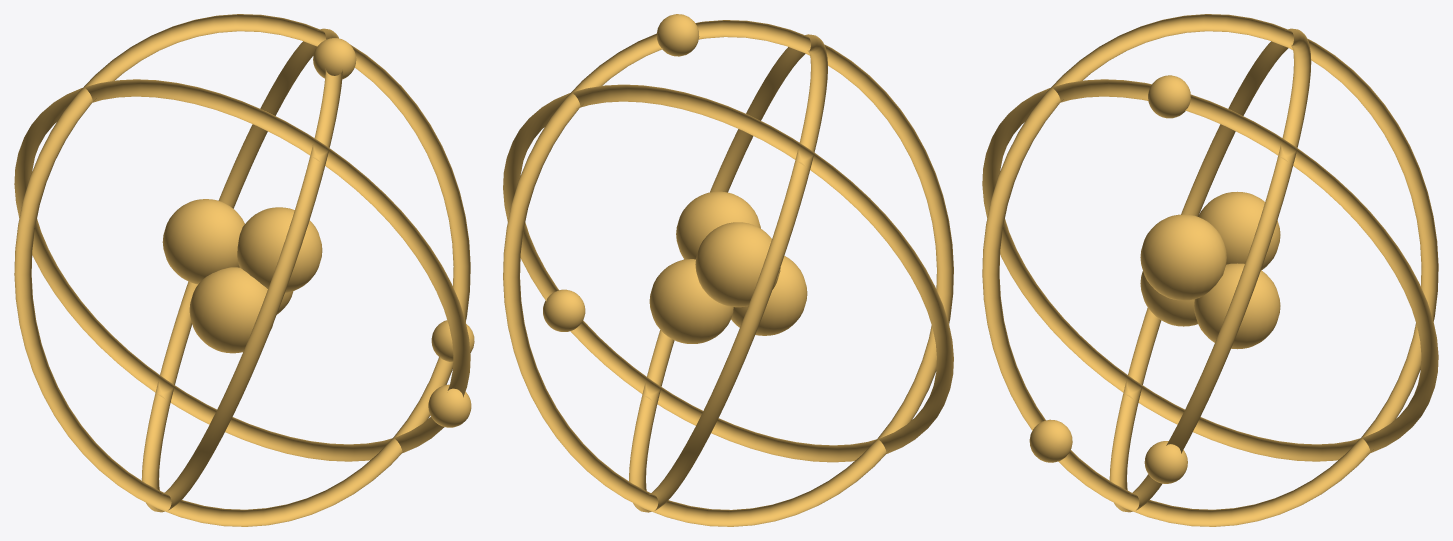
Rendered from physics.glb.
3 views of the same model, side by side, from view 1: azimuth 30°, elevation 25°; view 2: azimuth 150°, elevation 25°; view 3: azimuth 270°, elevation 25° (orthographic).
Visible parts, largest first — view 1: physics; view 2: physics; view 3: physics.
Part boxes in pixels (<box>): physics: <box>14,14,474,526</box>; physics: <box>503,14,953,526</box>; physics: <box>982,14,1438,526</box>.
Bounding box in the file's own units: 1 × 0.9556 × 0.8894.
